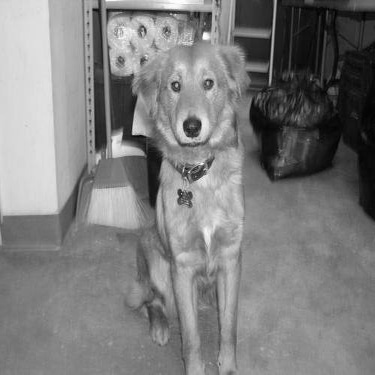dog: (119, 33, 255, 371)
